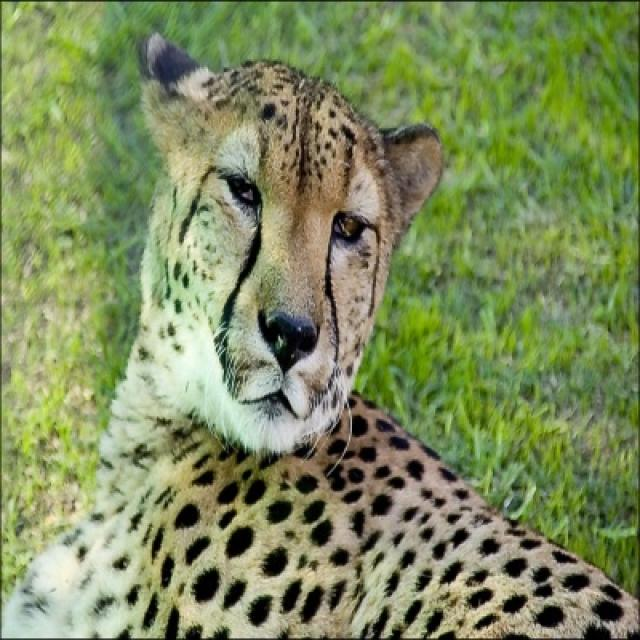Cheetah: (0, 30, 638, 638)
